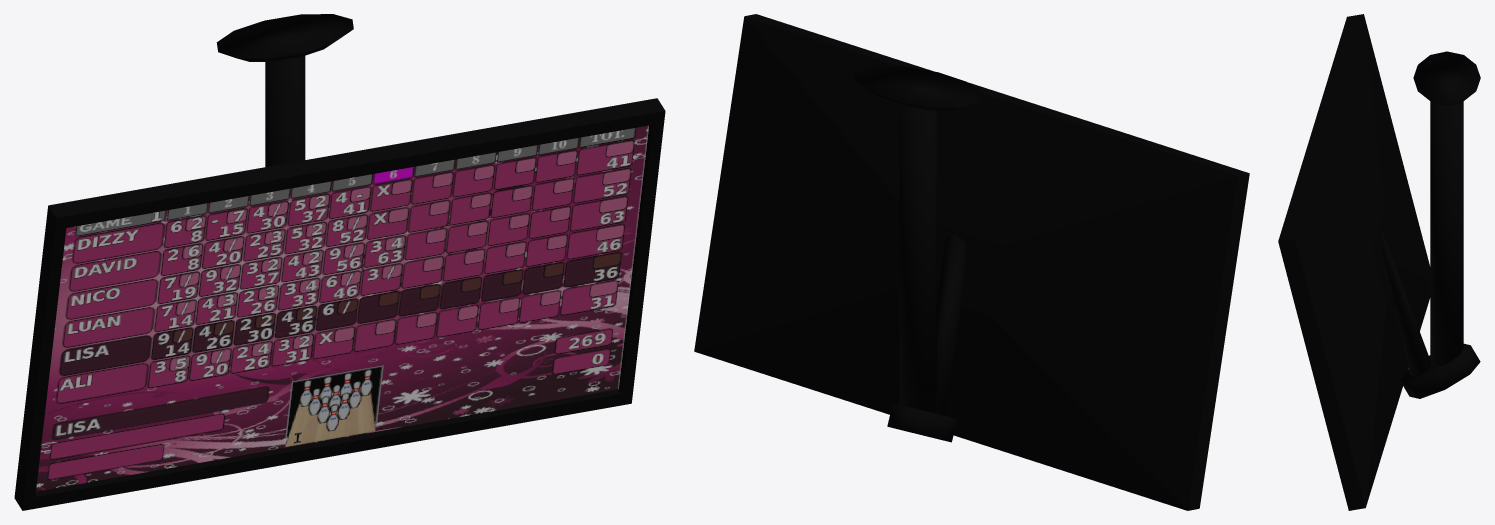
Rendered from bowling_screen_right.fbx.
3 views of the same model, side by side, from view 1: azimuth 30°, elevation 25°; view 2: azimuth 150°, elevation 25°; view 3: azimuth 270°, elevation 25° (orthographic). The views are drawn at different scales.
Visible parts, largest first — view 1: Cube; view 2: Cube; view 3: Cube.
Boxes of the visible parts, x1=… form: Cube: x1=14, y1=14, x2=665, y2=510; Cube: x1=694, y1=14, x2=1249, y2=510; Cube: x1=1278, y1=14, x2=1480, y2=510.
Size of the model in its own units: 217 by 141 by 81.06.
